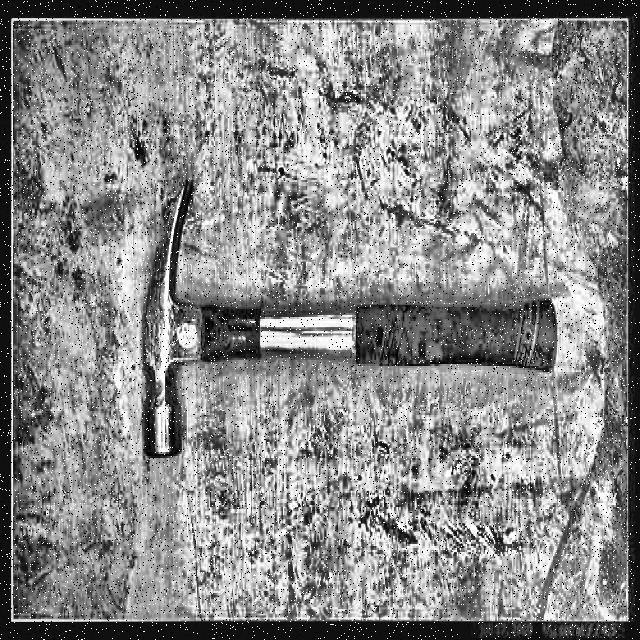hammer: (140, 177, 558, 457)
